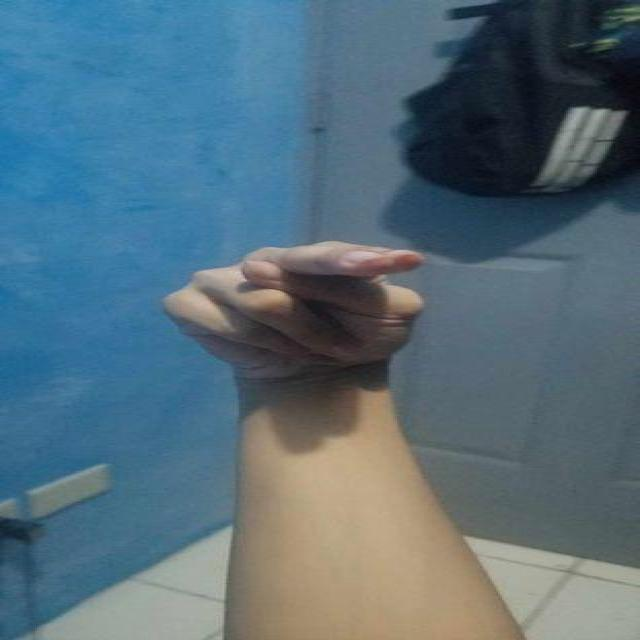N: (165, 242, 428, 378)
